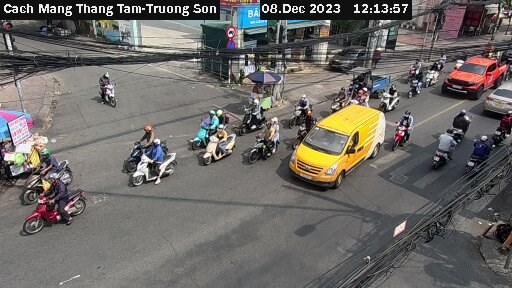car: (290, 106, 385, 188), (442, 56, 503, 101), (485, 81, 512, 113)
motorbike: (19, 189, 98, 239), (13, 158, 76, 193), (131, 150, 183, 185), (382, 114, 422, 155), (425, 127, 461, 168), (90, 73, 131, 108), (248, 127, 286, 163), (464, 129, 494, 173), (123, 130, 168, 159), (204, 130, 242, 164), (187, 109, 227, 141), (232, 96, 272, 128), (284, 94, 319, 121), (447, 102, 476, 130), (382, 86, 405, 113), (401, 72, 428, 93)
